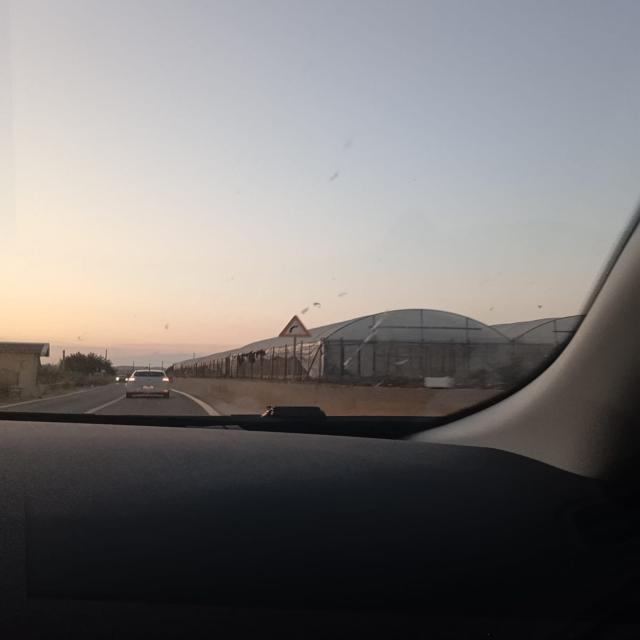warn_right_curve: (278, 314, 312, 338)
